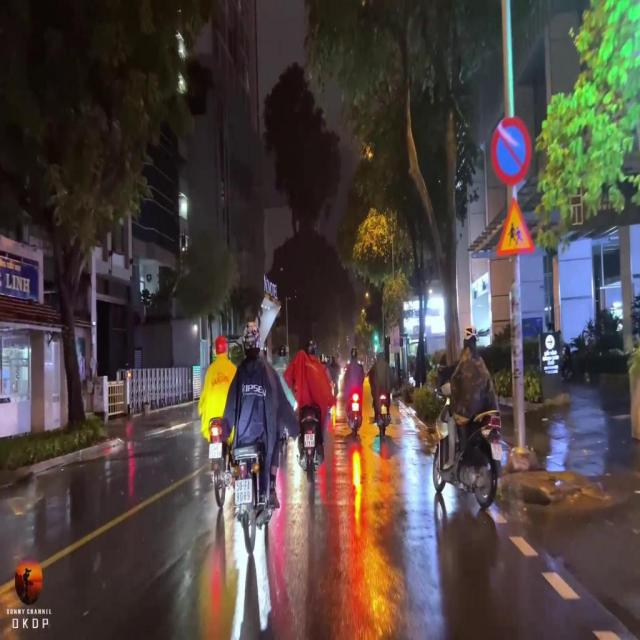cam_do_xe: (493, 120, 529, 182)
chu_y_tre_em: (498, 200, 534, 256)
